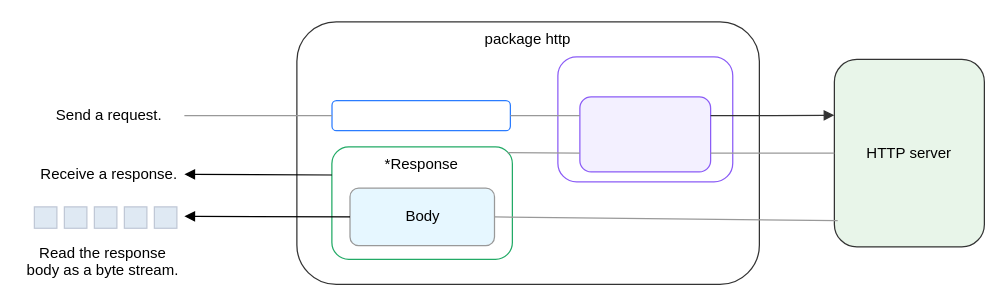
Some shapes in this 1006 by 306 pixel diagram are drawn without their labels. The box of each missing label's shape, as (x1, y1, x2, y2) in pixels:
*Client: (557, 56, 733, 182)
*Request: (331, 99, 510, 131)
Transport (RoundTripper): (579, 96, 711, 172)
